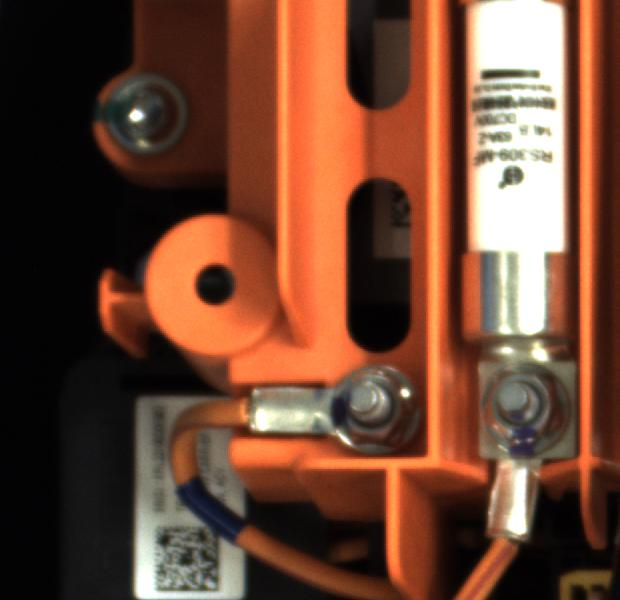screw_m: (103, 68, 199, 162)
screw_s: (468, 360, 570, 445), (319, 360, 418, 447)
